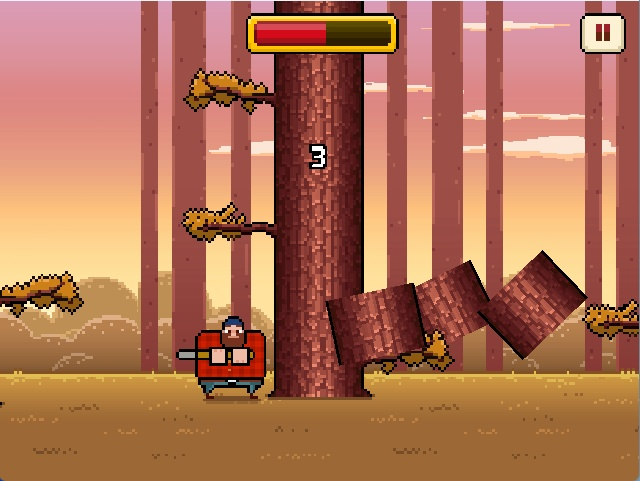left_obs: (175, 62, 280, 128), (176, 197, 281, 259)
timberman: (172, 309, 272, 415)
